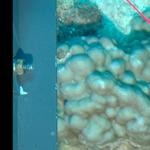alive: (56, 2, 146, 148)
